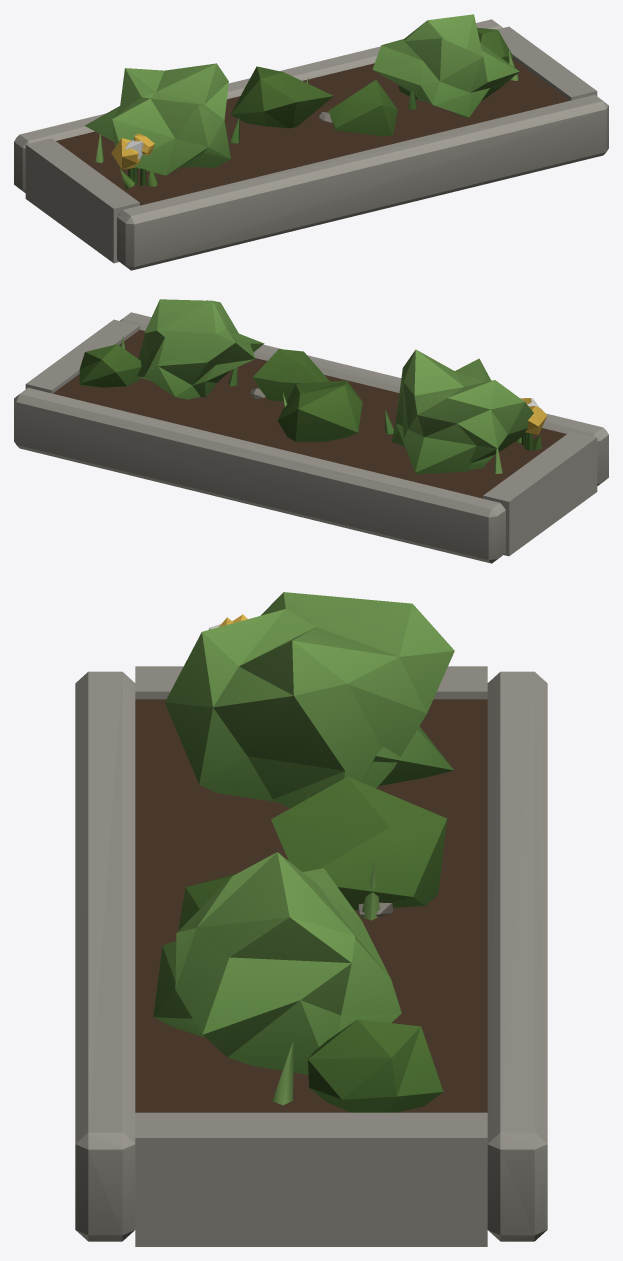
File: shrub_planting_bed_01.glb
The picture shows the model from 3 angles, top to bottom: view 1: azimuth 30°, elevation 25°; view 2: azimuth 150°, elevation 25°; view 3: azimuth 270°, elevation 25°; orthographic projection. The views are drawn at different scales.
Parts seen in each view (by area): view 1: shrub_planting_bed_01; view 2: shrub_planting_bed_01; view 3: shrub_planting_bed_01.
Boxes of the visible parts, x1,y1,x2,y2 form: shrub_planting_bed_01: (14,14,608,270); shrub_planting_bed_01: (14,299,608,563); shrub_planting_bed_01: (75,592,547,1246).
Bounding box in the file's own units: 2.6 × 0.7023 × 1.1.
